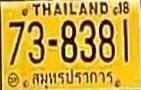1: (123, 18, 128, 62)
3: (27, 20, 44, 63), (79, 18, 95, 62)
7: (8, 20, 24, 64)
8: (98, 18, 114, 62), (60, 19, 76, 62)
SPK: (29, 68, 115, 90)
